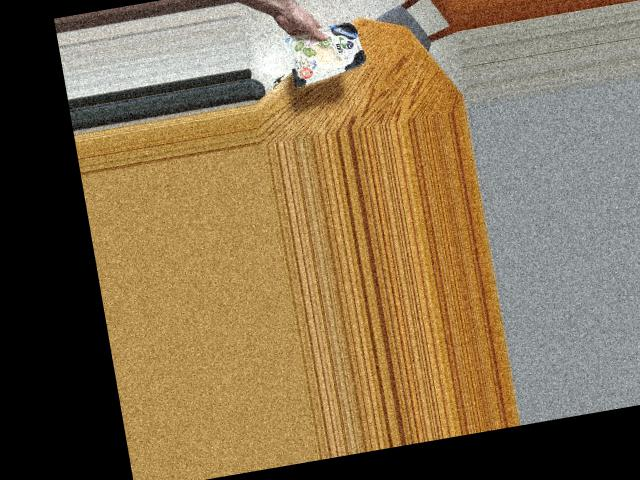cheese: (282, 12, 367, 87)
